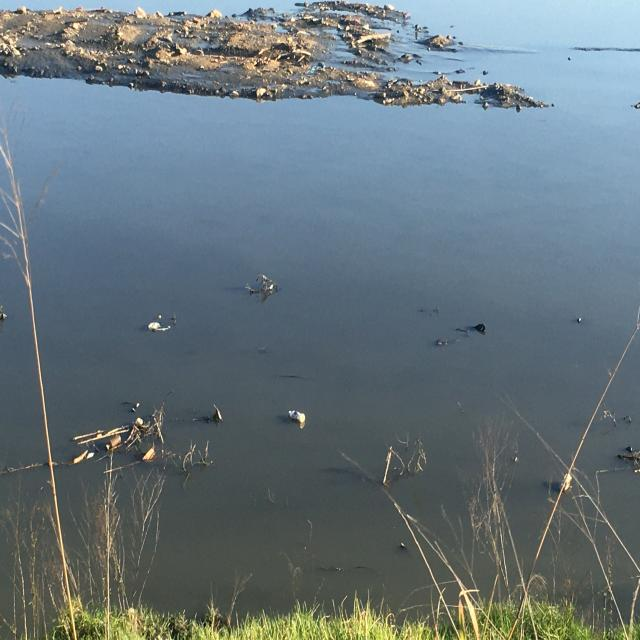Plastic bag: (430, 320, 490, 349), (607, 444, 640, 478), (394, 538, 414, 565), (567, 313, 595, 329), (146, 319, 172, 335)
Plastic bottle: (288, 406, 307, 426), (104, 432, 123, 450), (560, 470, 572, 496)
